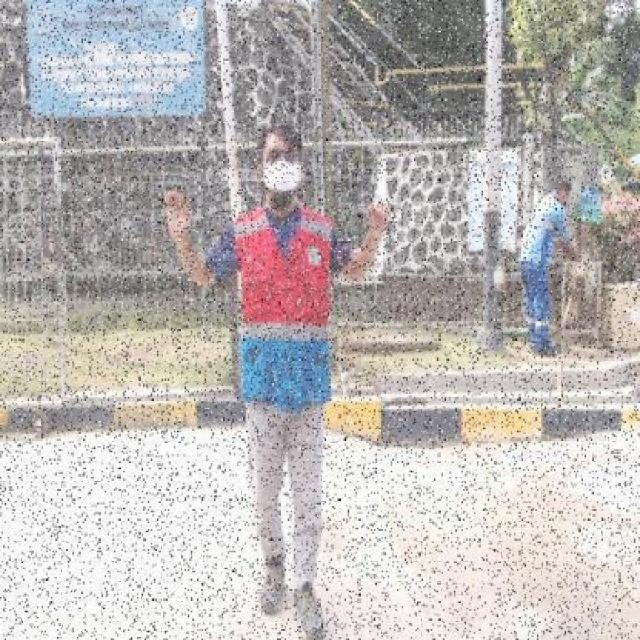Boots: (288, 578, 328, 638), (257, 558, 288, 618)
Mask: (262, 156, 301, 190)
